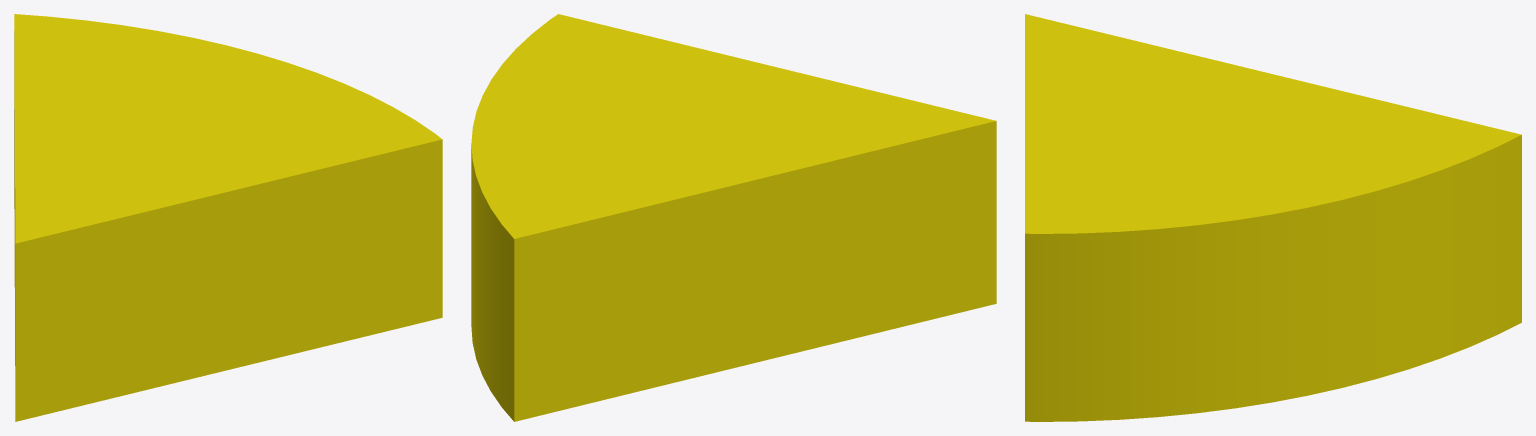
The model's file is cheese.fbx.
3 renders of one model, left to right at view 1: azimuth 30°, elevation 25°; view 2: azimuth 150°, elevation 25°; view 3: azimuth 270°, elevation 25°, orthographic. The views are drawn at different scales.
Parts seen in each view (by area): view 1: pCylinder20; view 2: pCylinder20; view 3: pCylinder20.
Boxes of the visible parts, x1=… form: pCylinder20: x1=14, y1=14, x2=442, y2=421; pCylinder20: x1=471, y1=14, x2=996, y2=421; pCylinder20: x1=1025, y1=14, x2=1521, y2=421.
Size of the model in its own units: 4.7 by 1.87 by 4.48.
